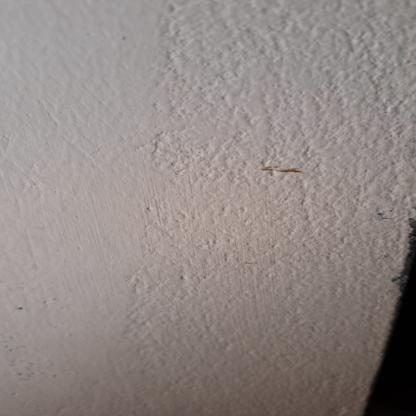spot: (248, 158, 306, 179)
